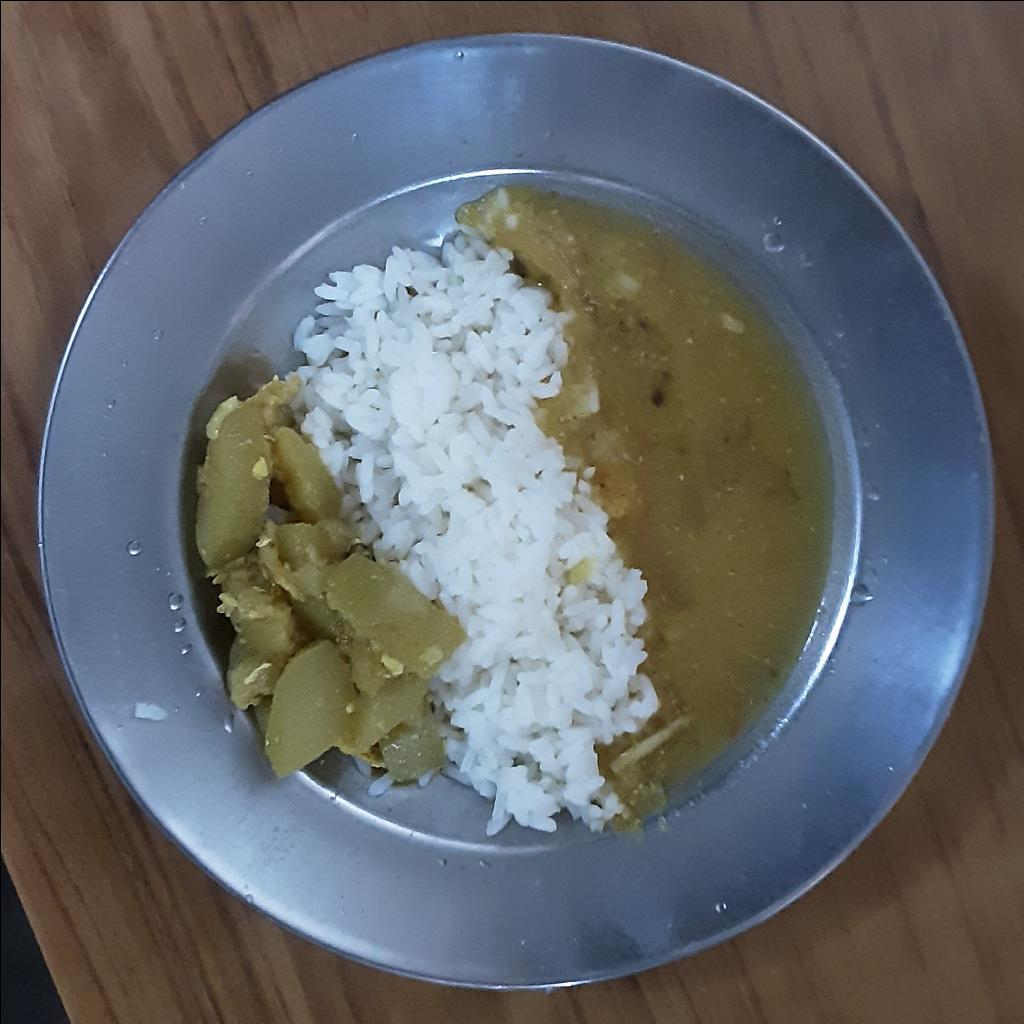daal: (453, 186, 834, 830)
lau: (197, 373, 468, 786)
rice: (292, 217, 658, 839)
